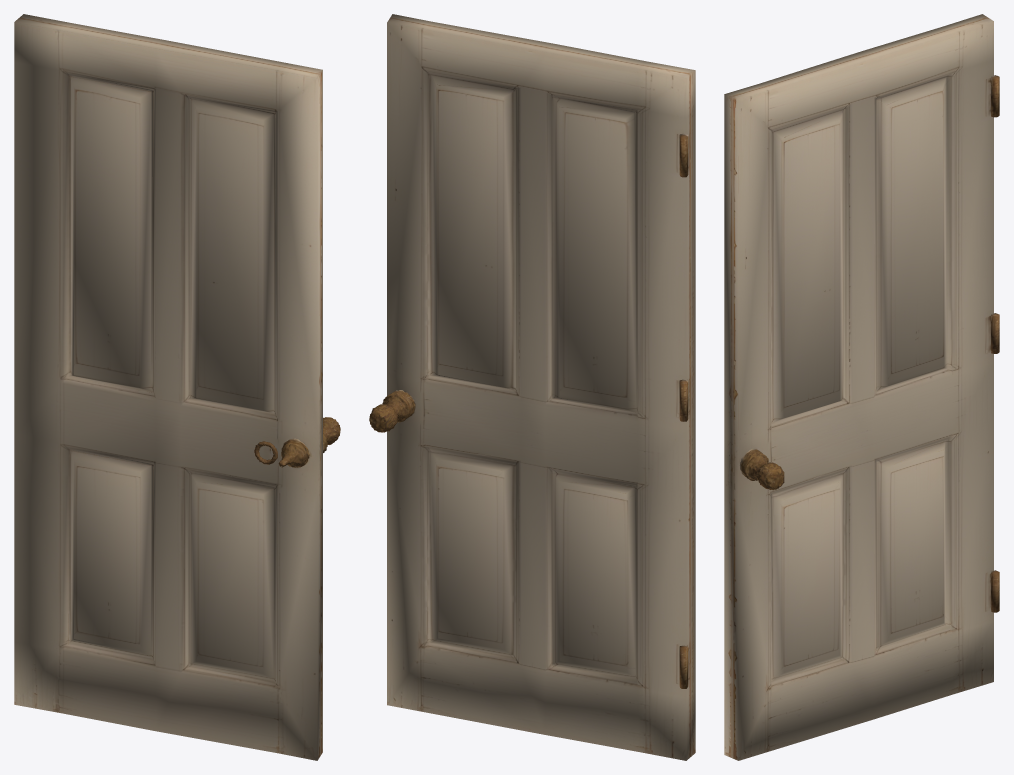
3 views of the same model, side by side, from view 1: azimuth 30°, elevation 25°; view 2: azimuth 210°, elevation 25°; view 3: azimuth 270°, elevation 25° (orthographic). The views are drawn at different scales.
Visible parts, largest first — view 1: tripo_node_6bce4837-c844-4e3e-be05-5464d25733f5; view 2: tripo_node_6bce4837-c844-4e3e-be05-5464d25733f5; view 3: tripo_node_6bce4837-c844-4e3e-be05-5464d25733f5.
Boxes of the visible parts, <box> form: tripo_node_6bce4837-c844-4e3e-be05-5464d25733f5: <box>14,14,340,760</box>; tripo_node_6bce4837-c844-4e3e-be05-5464d25733f5: <box>369,14,695,760</box>; tripo_node_6bce4837-c844-4e3e-be05-5464d25733f5: <box>724,14,999,760</box>.
Size of the model in its own units: 0.3301 by 0.998 by 0.377.
Materials: 1 (1 with a texture image).
